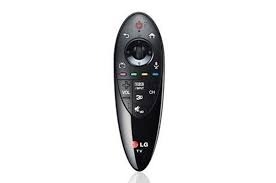remote control: (106, 8, 172, 175)
